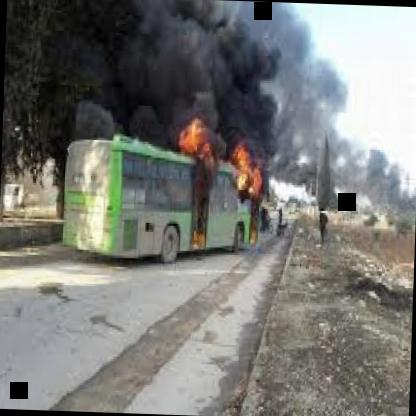fire: (59, 43, 260, 268)
